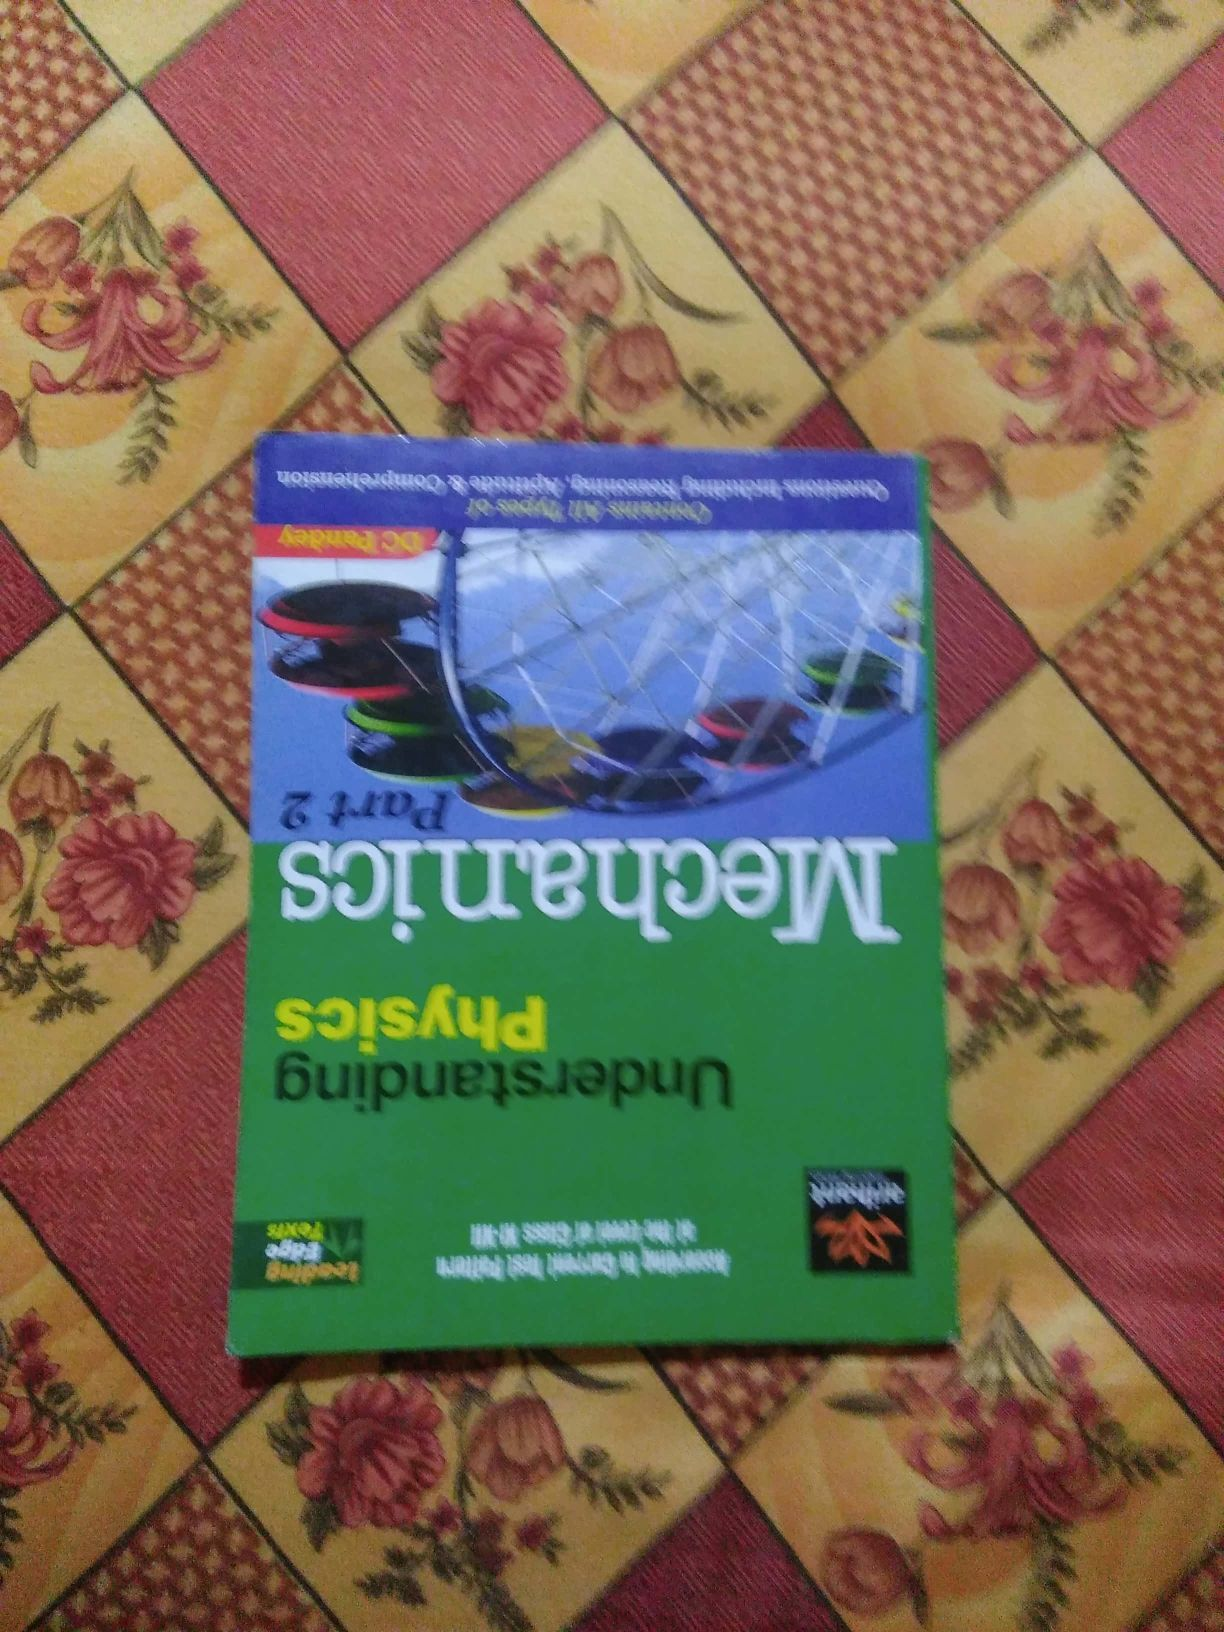mechanics: (177, 393, 1124, 1426)
